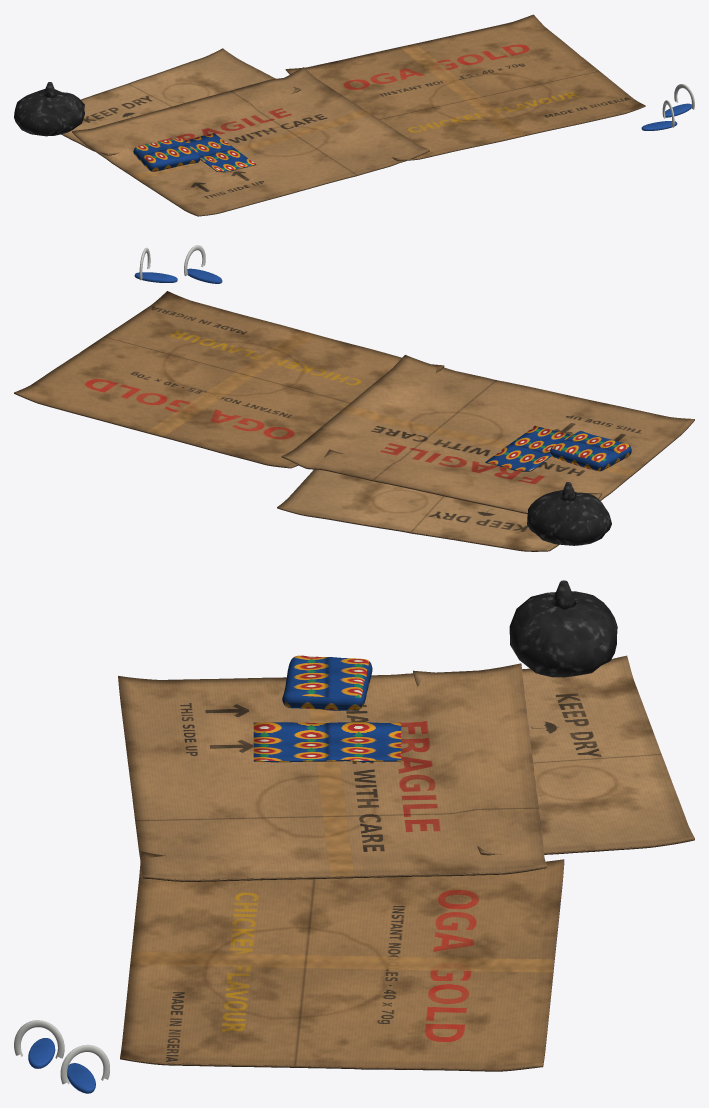
Rendered from ns_carton.glb.
3 renders of one model, top to bottom at view 1: azimuth 30°, elevation 25°; view 2: azimuth 150°, elevation 25°; view 3: azimuth 270°, elevation 25°, orthographic. The views are drawn at different scales.
Parts seen in each view (by area): view 1: ns_carton; view 2: ns_carton; view 3: ns_carton.
Part boxes in pixels (left/top/right/bottom): ns_carton: left=14, top=14, right=694, bottom=216; ns_carton: left=14, top=245, right=694, bottom=551; ns_carton: left=14, top=580, right=694, bottom=1093.
Size of the model in its own units: 2.2 by 0.1888 by 1.38.
1 material, 1 textured.
